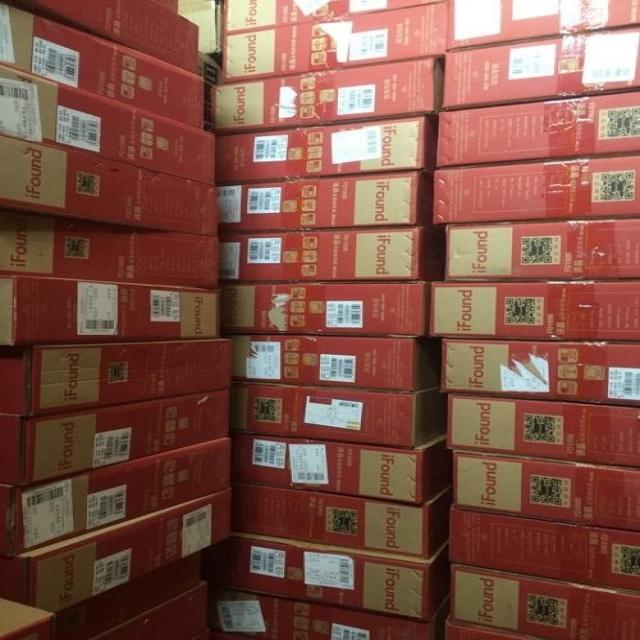box: (0, 487, 233, 616), (0, 435, 234, 560), (3, 7, 206, 129), (0, 68, 209, 182), (0, 134, 227, 237), (0, 388, 230, 486), (210, 531, 453, 621), (234, 473, 456, 559), (0, 208, 225, 291), (215, 5, 451, 82), (204, 57, 443, 131), (436, 26, 640, 112), (0, 341, 233, 416), (0, 275, 223, 350), (209, 116, 430, 190), (230, 379, 453, 452), (232, 430, 453, 503), (430, 91, 640, 166), (453, 448, 637, 533), (430, 154, 639, 228), (449, 510, 640, 590), (210, 579, 457, 638), (451, 565, 637, 640), (428, 279, 639, 341), (440, 339, 640, 404), (1, 1, 200, 66), (451, 399, 640, 467), (212, 169, 415, 232), (425, 2, 640, 60), (232, 336, 440, 395), (220, 228, 439, 284), (444, 219, 640, 279), (220, 283, 430, 339), (0, 595, 52, 640)
